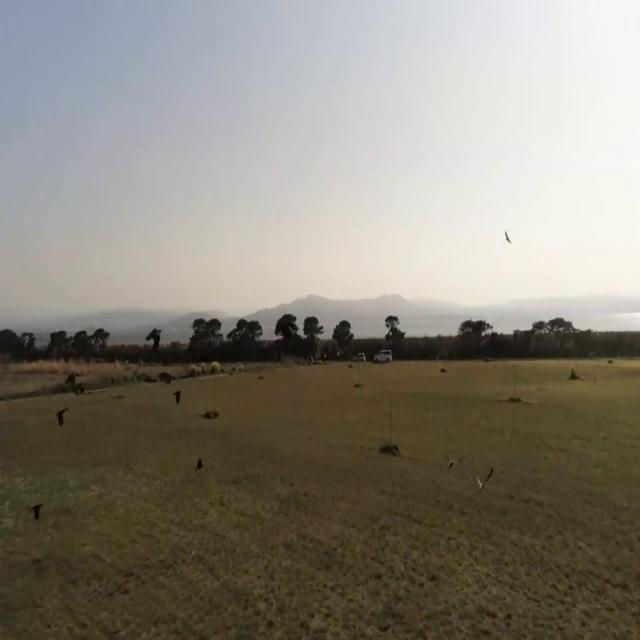bird: (475, 458, 494, 497), (31, 490, 42, 528), (57, 400, 66, 432), (504, 225, 512, 249)
